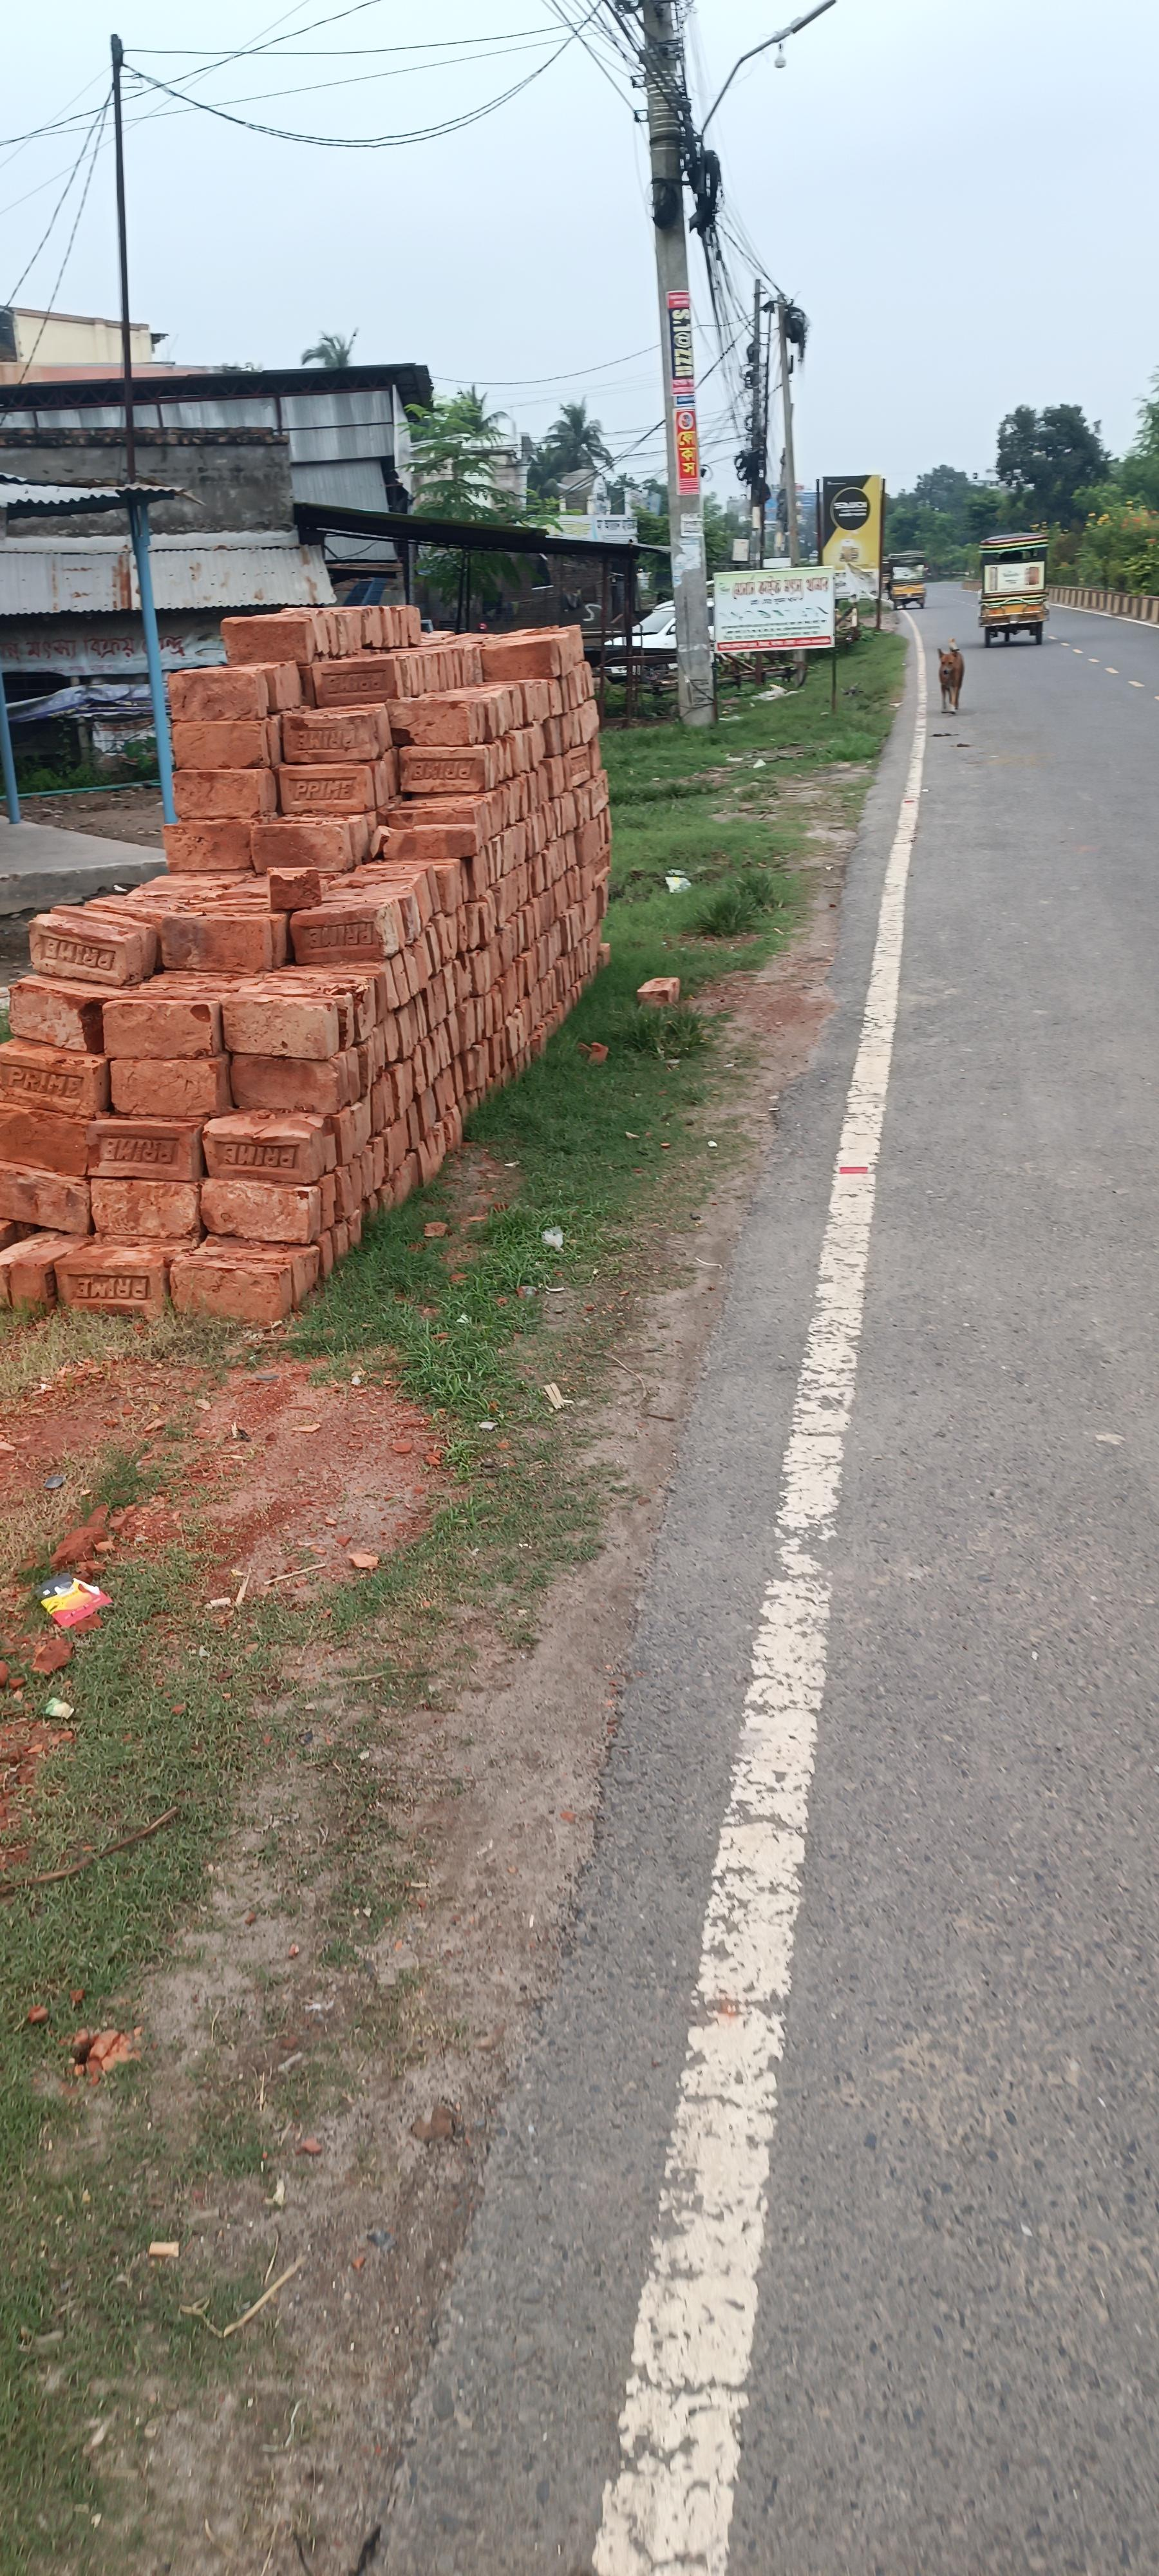Garbage: (1, 600, 613, 1327)
Light-pole: (632, 32, 767, 753)
Traffic-cone: (979, 532, 1050, 645), (889, 550, 928, 607)
